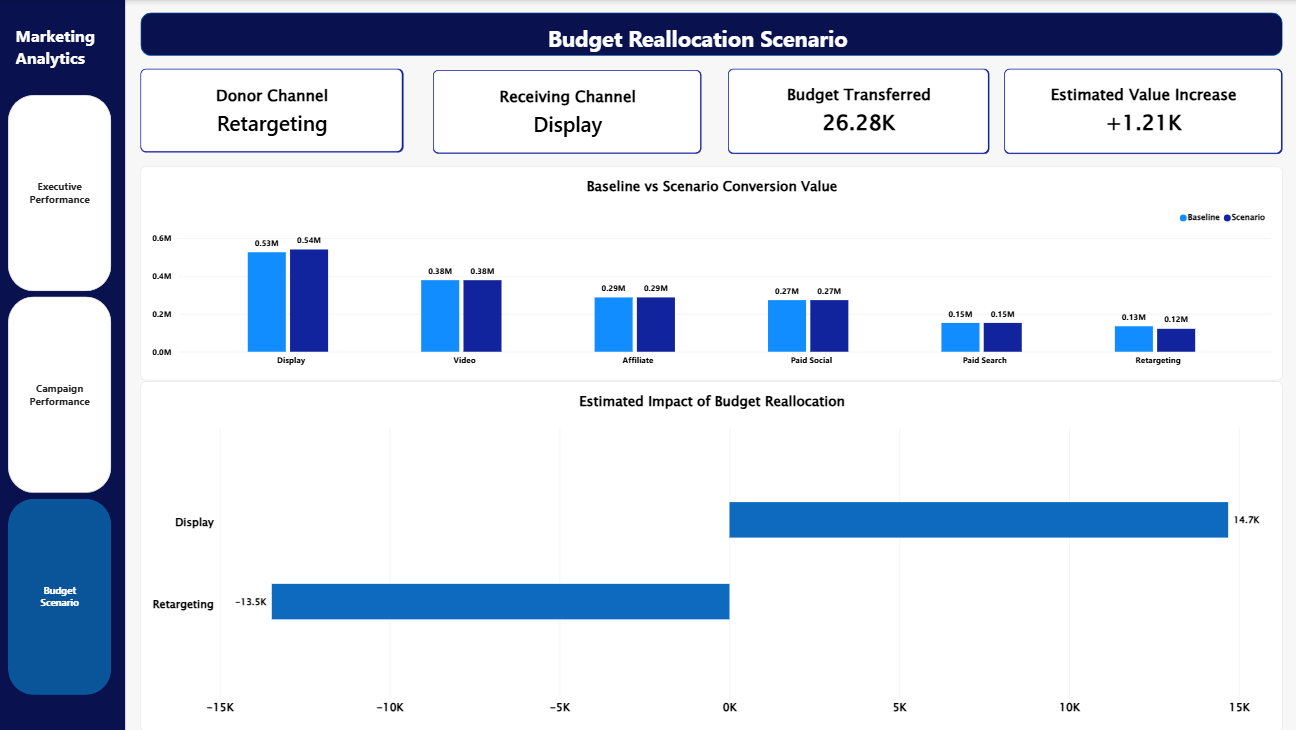

The page's visual inventory and layout, read from the dashboard file:
{"tool":"powerbi","page":{"name":"Budget Scenario","canvas":[1920,1080],"ordinal":2},"visuals":[{"type":"shape","box":[0,0,187.3,1078.6],"z":0},{"type":"textbox","box":[25,37.6,141.9,125.2],"z":1000},{"type":"pageNavigator","box":[14.4,140,152.3,885.1],"z":2000},{"type":"shape","box":[209.9,18.5,1681.7,63.8],"z":3000},{"type":"cardVisual","fields":{"Data":["budget_reallocation_scenario.Donor Channel"]},"box":[209.9,100.9,387,123.5],"z":4000},{"type":"cardVisual","fields":{"Data":["budget_reallocation_scenario.Receiving Channel"]},"box":[640.1,102.9,395.2,123.5],"z":5000},{"type":"cardVisual","fields":{"Data":["budget_reallocation_scenario.Budget Transferred"]},"box":[1074.4,100.9,384.9,125.6],"z":6000},{"type":"cardVisual","fields":{"Data":["budget_reallocation_scenario.Estimated Value Increase Display"]},"box":[1482,100.9,409.6,125.6],"z":7000},{"type":"clusteredColumnChart","title":"Baseline vs Scenario Conversion Value","fields":{"Category":["budget_reallocation_scenario.channel_name"],"Y":["Sum(budget_reallocation_scenario.conversion_value)","Sum(budget_reallocation_scenario.scenario_conversion_value)"]},"box":[209.9,244.9,1681.7,314.9],"z":8000},{"type":"clusteredBarChart","title":"Estimated Impact of Budget Reallocation","fields":{"Category":["budget_reallocation_scenario.channel_name"],"Y":["Sum(budget_reallocation_scenario.scenario_change_value)"]},"box":[209.9,561.9,1681.7,516.6],"z":9000},{"type":"textbox","box":[808.9,35,487.8,96.7],"z":10000}]}

Visuals, with their boxes on the page's 1920x1080 design canvas (x1, y1, x2, y2). These are canvas units, not pixel positions in the 1296x730 screenshot, which may show the page scaled, cropped or inside an application window:
shape: bbox=[0, 0, 187, 1079]
textbox: bbox=[25, 38, 167, 163]
pageNavigator: bbox=[14, 140, 167, 1025]
shape: bbox=[210, 18, 1892, 82]
cardVisual - budget_reallocation_scenario.Donor Channel: bbox=[210, 101, 597, 224]
cardVisual - budget_reallocation_scenario.Receiving Channel: bbox=[640, 103, 1035, 226]
cardVisual - budget_reallocation_scenario.Budget Transferred: bbox=[1074, 101, 1459, 226]
cardVisual - budget_reallocation_scenario.Estimated Value Increase Display: bbox=[1482, 101, 1892, 226]
"Baseline vs Scenario Conversion Value" clusteredColumnChart: bbox=[210, 245, 1892, 560]
"Estimated Impact of Budget Reallocation" clusteredBarChart: bbox=[210, 562, 1892, 1078]
textbox: bbox=[809, 35, 1297, 132]
